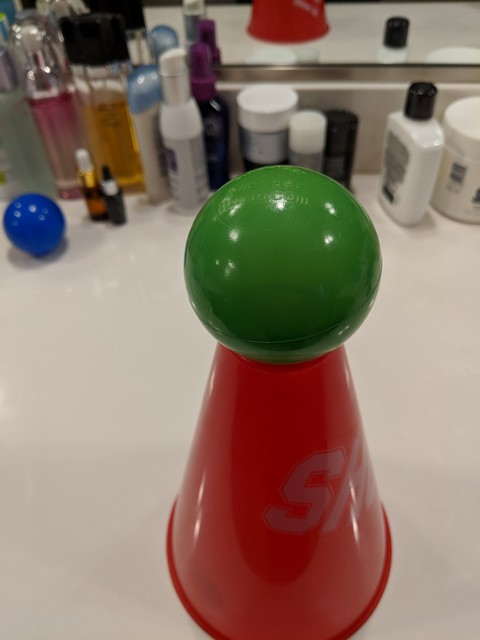Ball: (185, 167, 377, 362)
